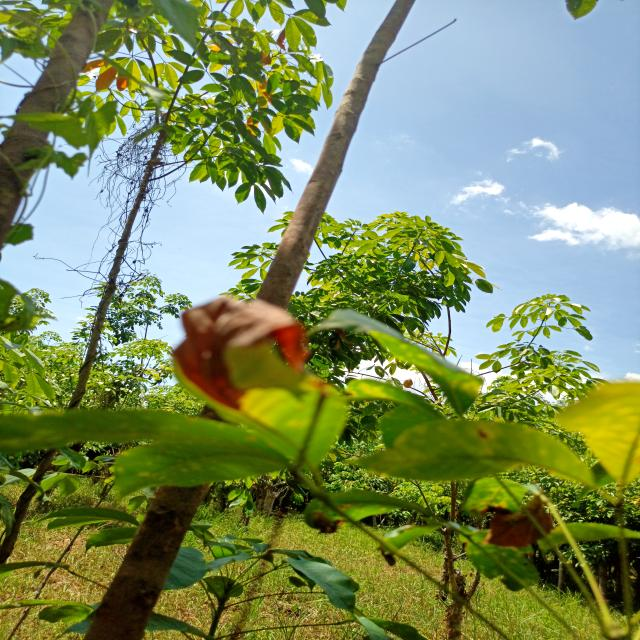Leaf-Blight: (168, 292, 306, 410), (306, 510, 348, 536), (480, 506, 514, 516)
